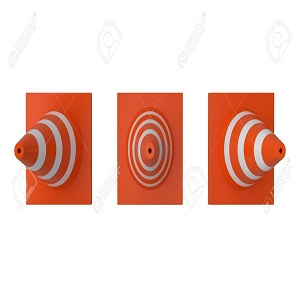traffic cone: (13, 92, 92, 204), (208, 92, 286, 205), (117, 92, 183, 205)
